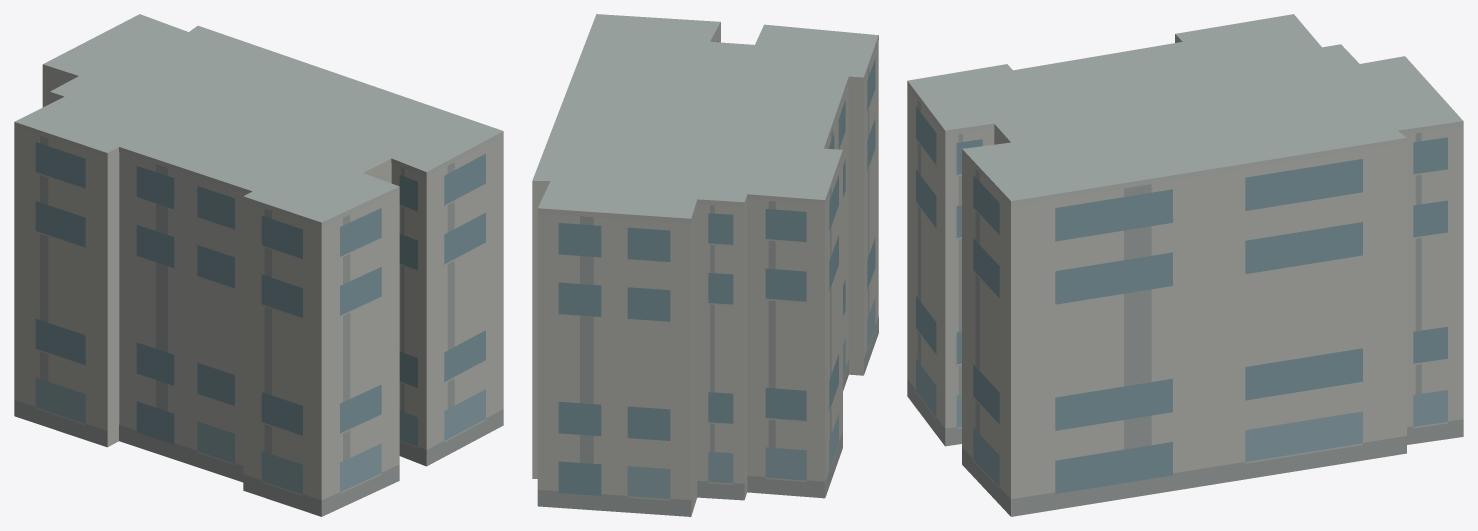
File: survey-upis-32593209.glb
3 renders of one model, left to right at view 1: azimuth 30°, elevation 25°; view 2: azimuth 150°, elevation 25°; view 3: azimuth 270°, elevation 25°, orthographic. The views are drawn at different scales.
Parts seen in each view (by area): view 1: survey-upis-32593209.tmp; view 2: survey-upis-32593209.tmp; view 3: survey-upis-32593209.tmp.
Boxes of the visible parts, x1,y1,x2,y2 form: survey-upis-32593209.tmp: [14, 14, 503, 516]; survey-upis-32593209.tmp: [532, 14, 878, 516]; survey-upis-32593209.tmp: [907, 14, 1463, 516].
Size of the model in its own units: 18.13 by 14.25 by 22.76.
